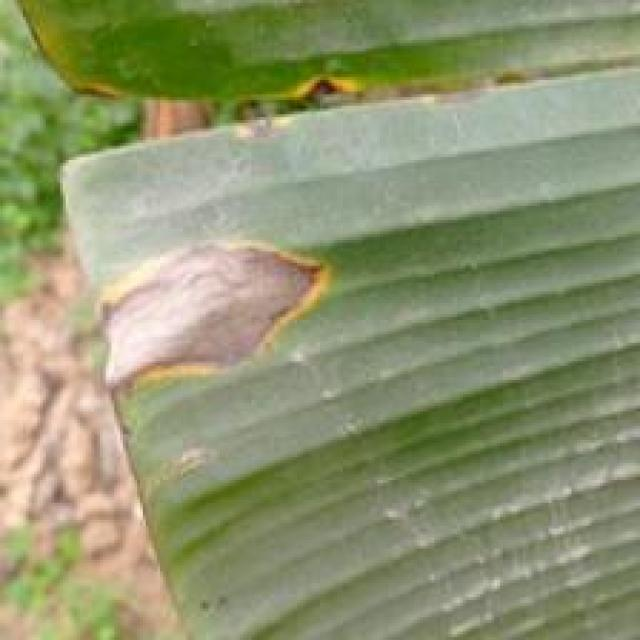Bacterial_spot: (88, 236, 338, 394), (135, 441, 220, 494), (59, 64, 132, 124), (288, 66, 364, 104), (489, 61, 528, 87)
